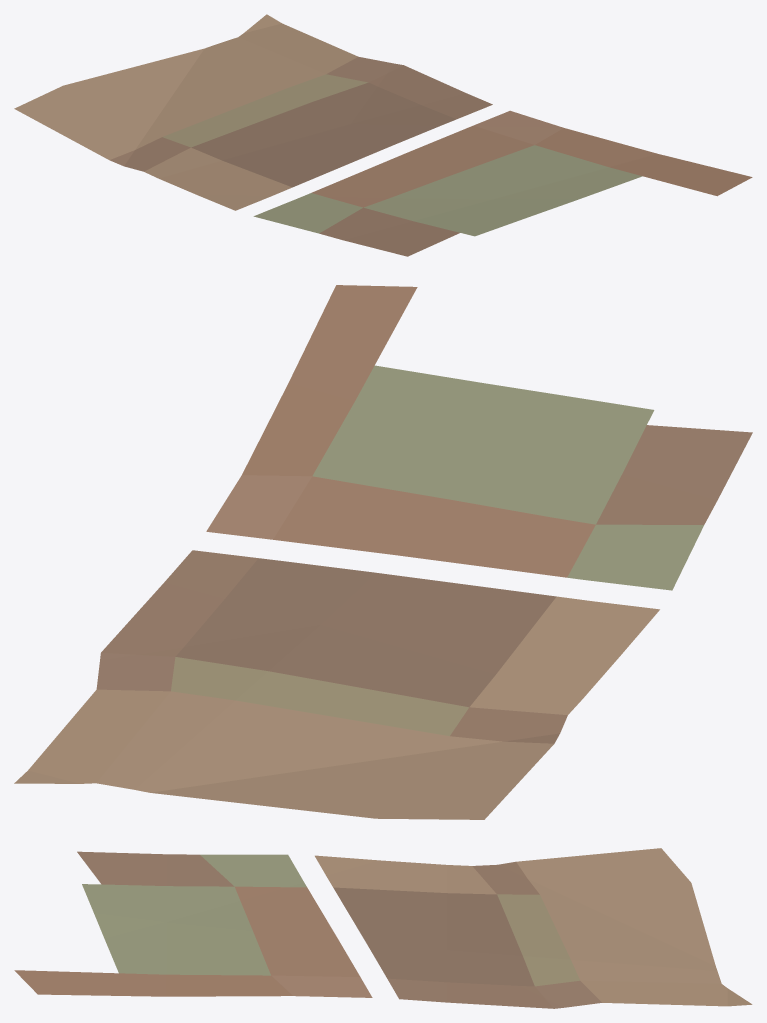
File: farm_48_30_soil.glb
3 views of the same model, one above another, from view 1: azimuth 30°, elevation 25°; view 2: azimuth 150°, elevation 25°; view 3: azimuth 270°, elevation 25° (orthographic). The views are drawn at different scales.
Visible parts, largest first — view 1: geometry_0; view 2: geometry_0; view 3: geometry_0.
Boxes of the visible parts, x1,y1,x2,y2 form: geometry_0: [14, 14, 752, 256]; geometry_0: [14, 285, 752, 819]; geometry_0: [14, 848, 752, 1008].
Bounding box in the file's own units: 138 × 22.85 × 211.
